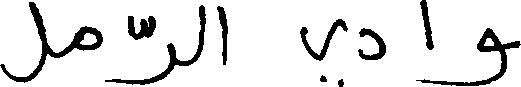X: (432, 23, 520, 86), (107, 11, 174, 86), (0, 0, 46, 86), (302, 14, 343, 86), (360, 23, 384, 64), (77, 21, 99, 55), (423, 0, 430, 86), (219, 1, 226, 69), (196, 0, 203, 65)
